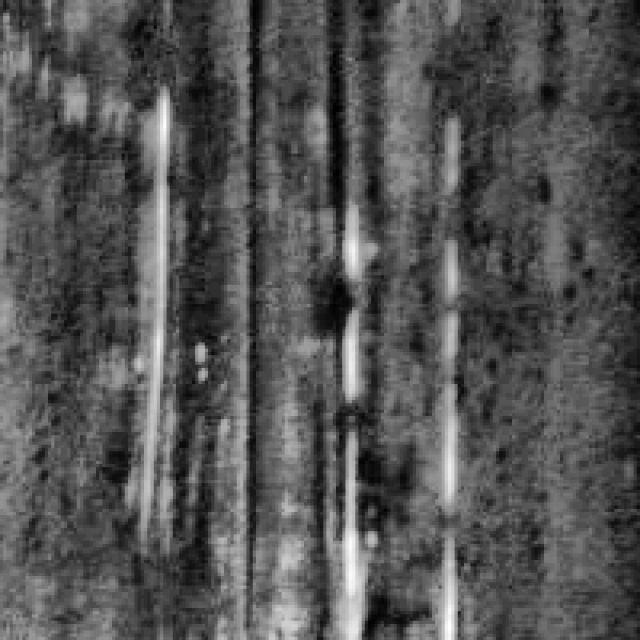Inclusion: (125, 83, 173, 547), (426, 115, 460, 637), (333, 182, 371, 634)
Patches: (314, 0, 391, 208)
